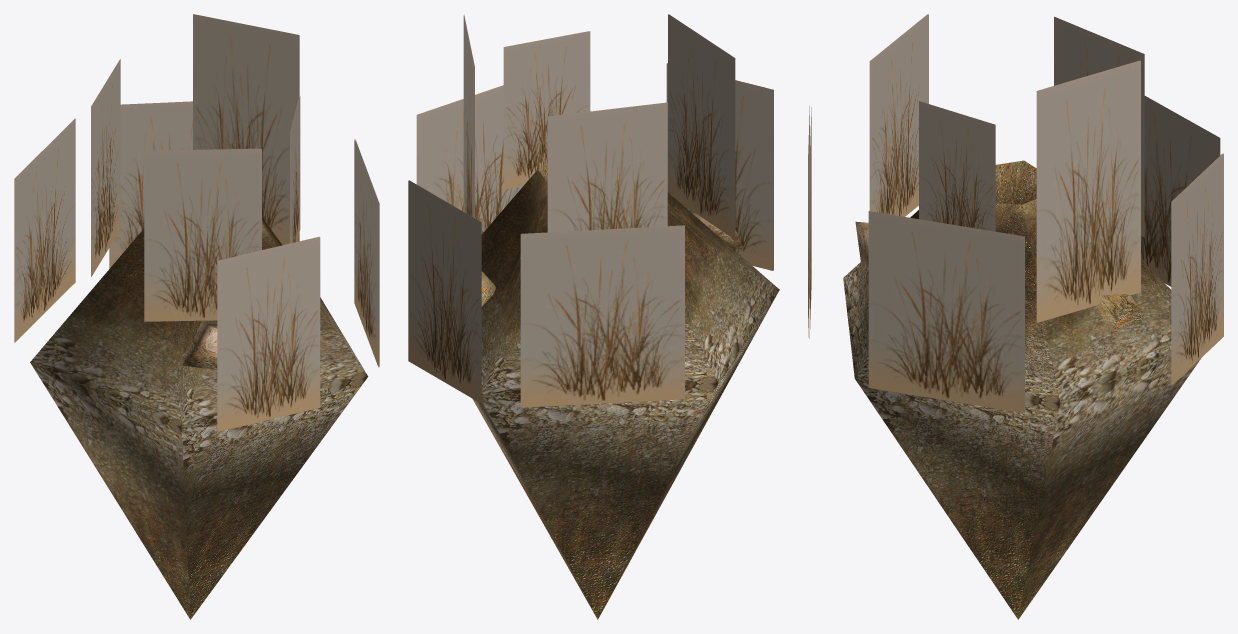
The model's file is poi_all_lair_antpile_dark_large_l3.fbx.
3 views of the same model, side by side, from view 1: azimuth 30°, elevation 25°; view 2: azimuth 150°, elevation 25°; view 3: azimuth 270°, elevation 25° (orthographic). The views are drawn at different scales.
Visible parts, largest first — view 1: mesh_node; view 2: mesh_node; view 3: mesh_node.
Part boxes in pixels (bbox=[...]): mesh_node: bbox=[14, 14, 379, 619]; mesh_node: bbox=[408, 14, 779, 619]; mesh_node: bbox=[808, 14, 1223, 619].
Bounding box in the file's own units: 8.51 × 14.64 × 9.34.
